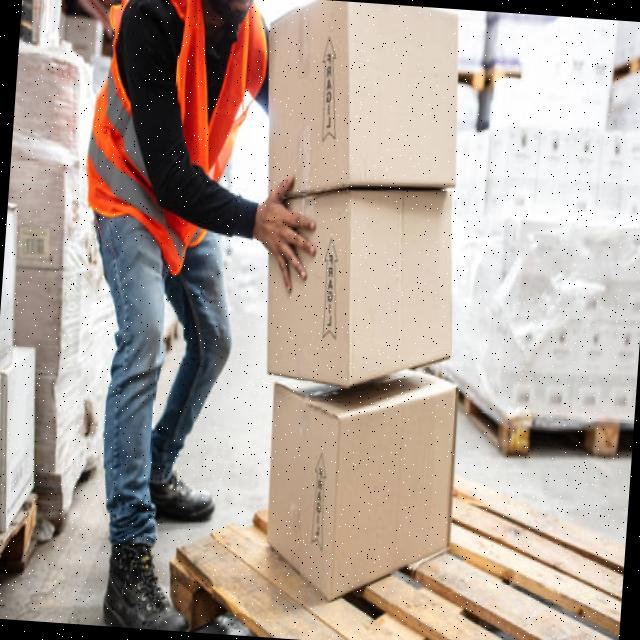Wooden-Pallets: (173, 474, 621, 640)
